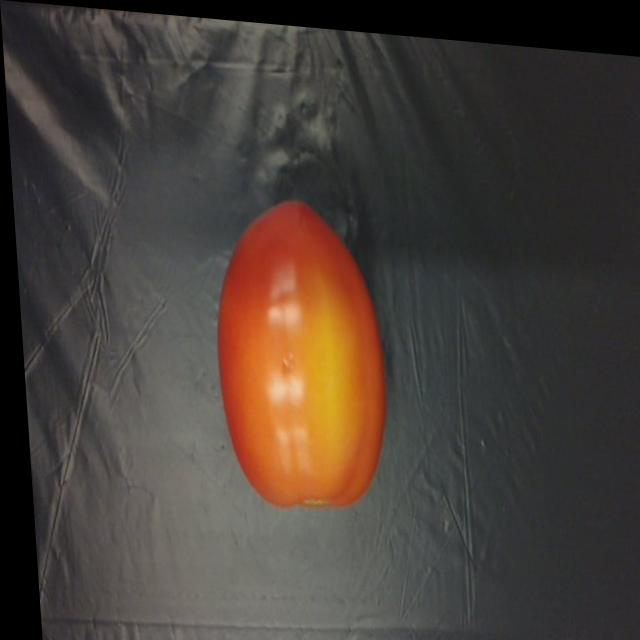sari: (194, 169, 397, 535)
